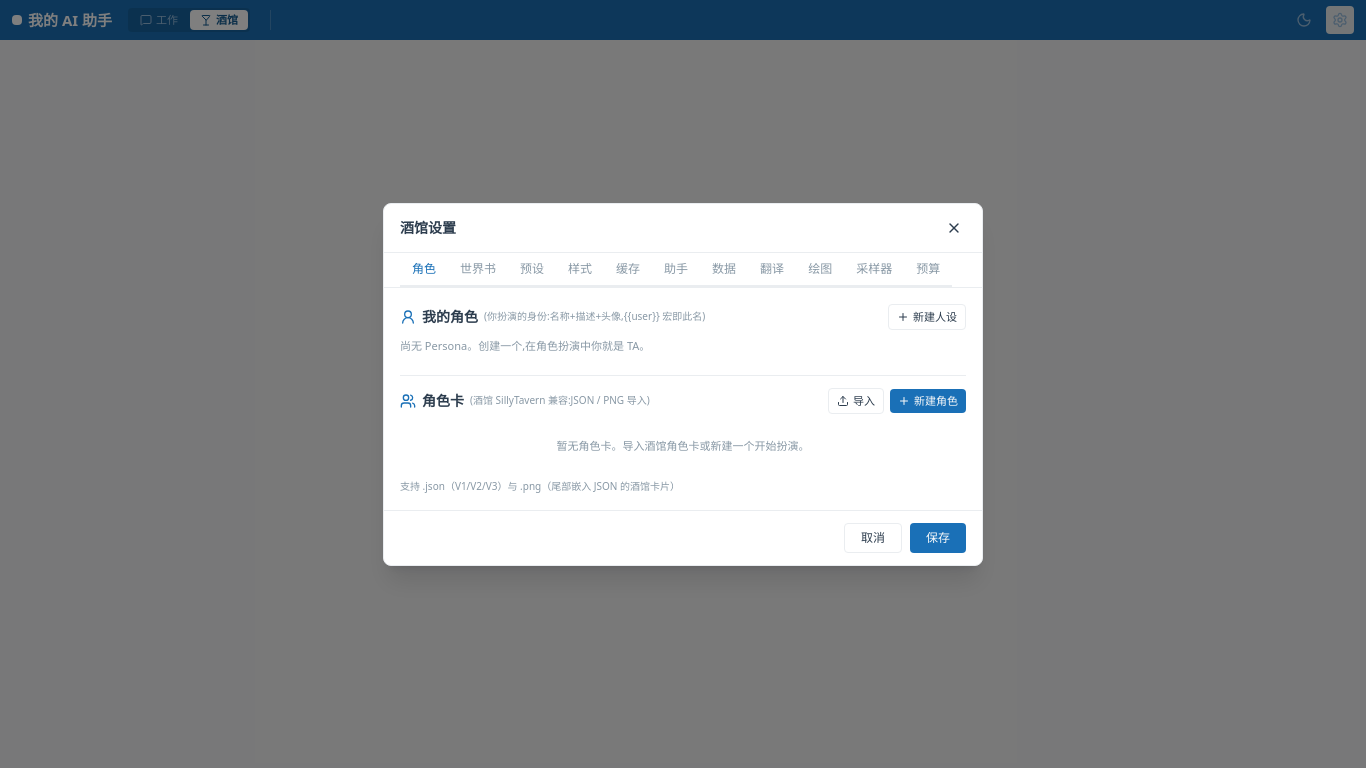
Test case: T-133 酒馆子模式切换后的设置面板 › Header 的 key 含 tavernSubMode：rp → simulate 后 tab 回到「推演」
Click the button "样式" at (580, 270), box 556,252 -> 604,286
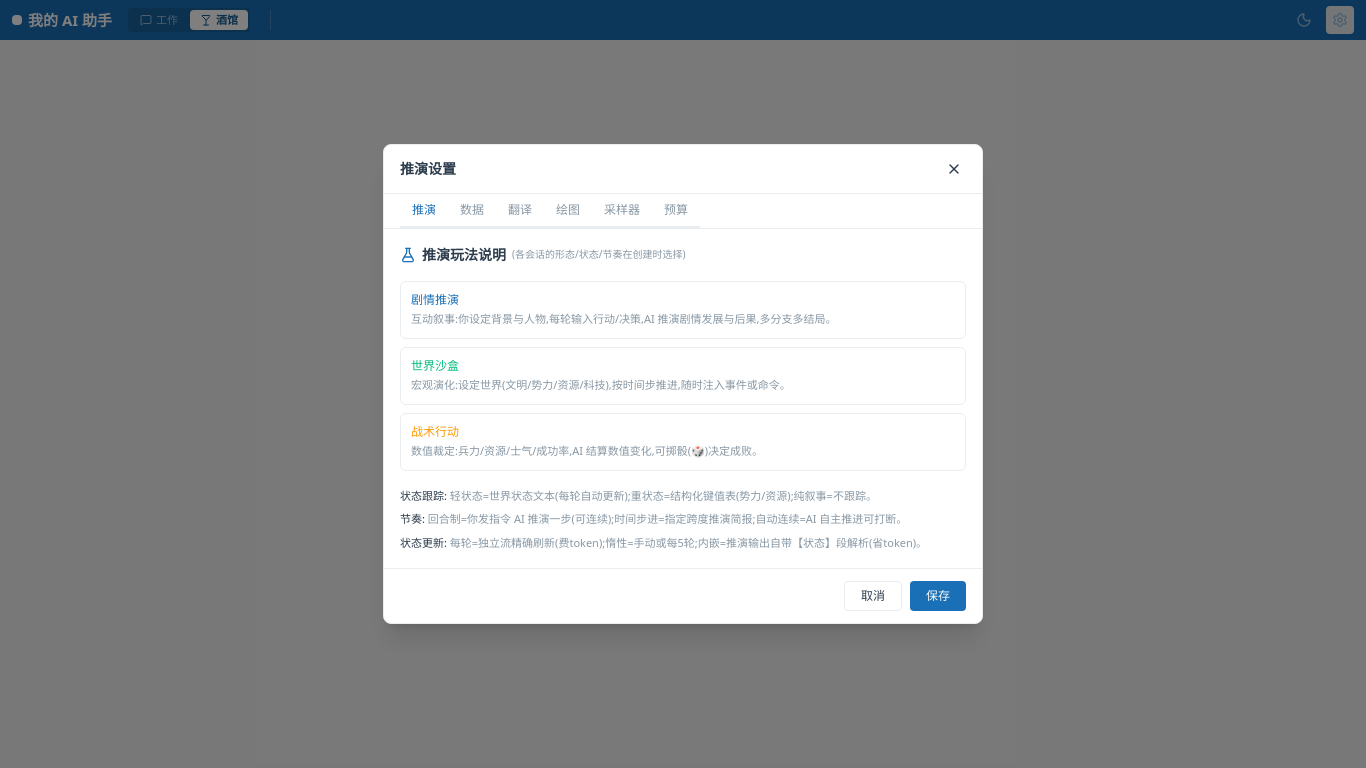
Expected: the heading "推演设置" is shown, 400,159 -> 456,179
